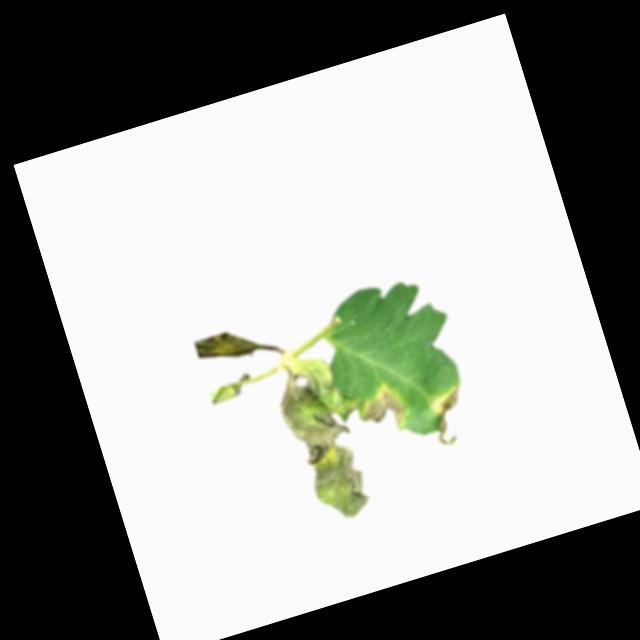Late_blight: (265, 348, 390, 529), (424, 382, 475, 450), (357, 380, 409, 437)
